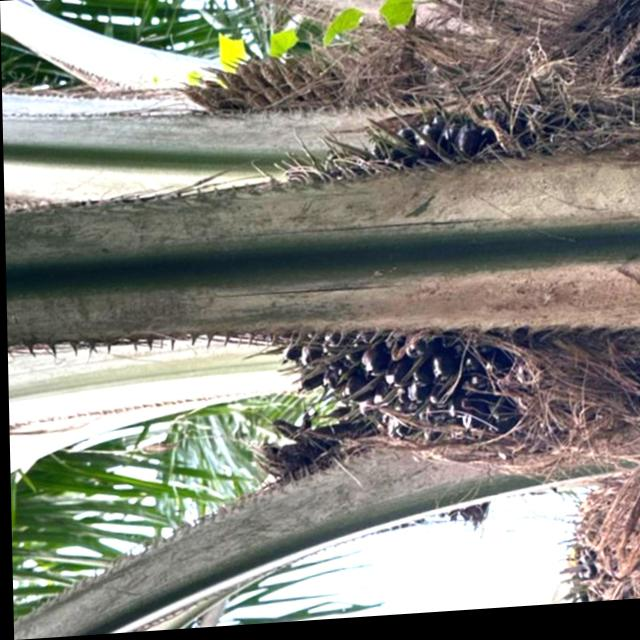ripe: (207, 73, 564, 471)
